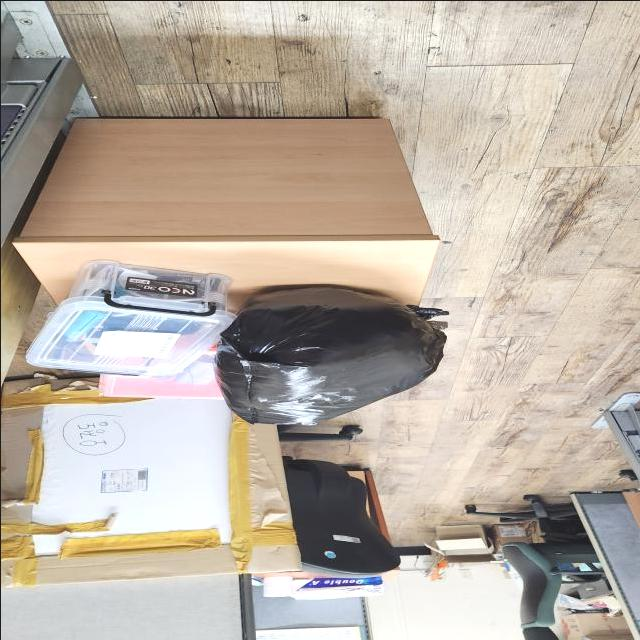black_bag: (212, 281, 446, 428)
